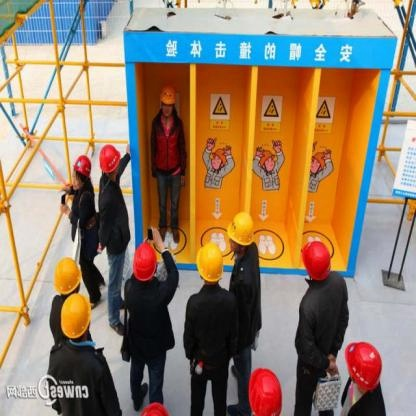red: (342, 342, 386, 390), (248, 366, 286, 416), (59, 291, 94, 342), (301, 238, 334, 283), (193, 243, 227, 282), (51, 253, 84, 292), (130, 240, 159, 282), (96, 141, 124, 176), (70, 152, 93, 182), (160, 80, 180, 107)
yellow: (226, 211, 258, 248)
